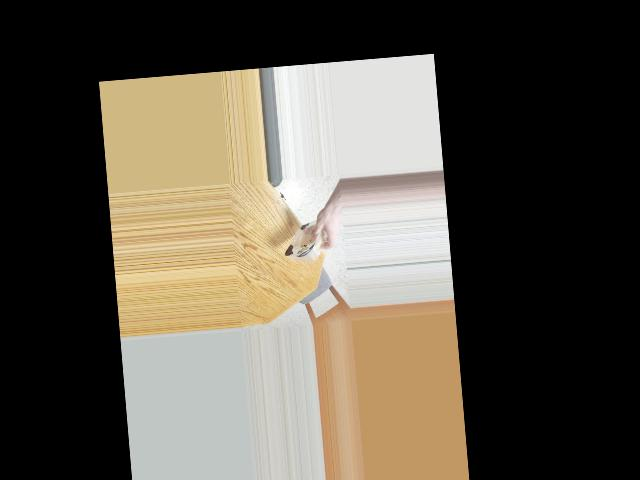cheese: (283, 207, 326, 268)
